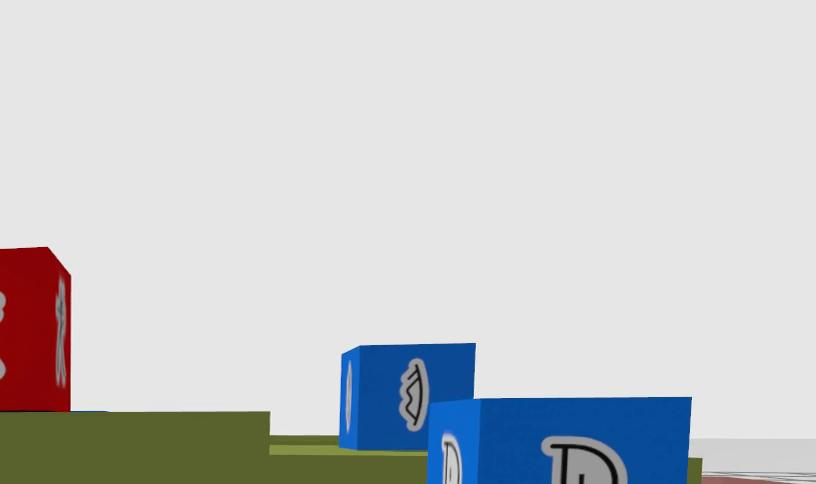KFS_FAKE: (0, 249, 71, 411), (54, 276, 67, 386), (0, 281, 5, 318), (0, 360, 4, 378)
KFS_REAL: (424, 397, 688, 484), (338, 343, 473, 449), (541, 436, 627, 484), (399, 359, 431, 431), (441, 432, 461, 484)
